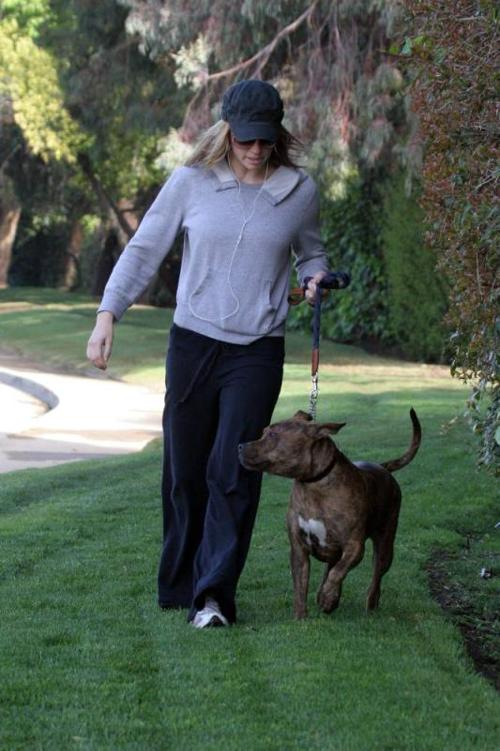person: (86, 79, 328, 627)
